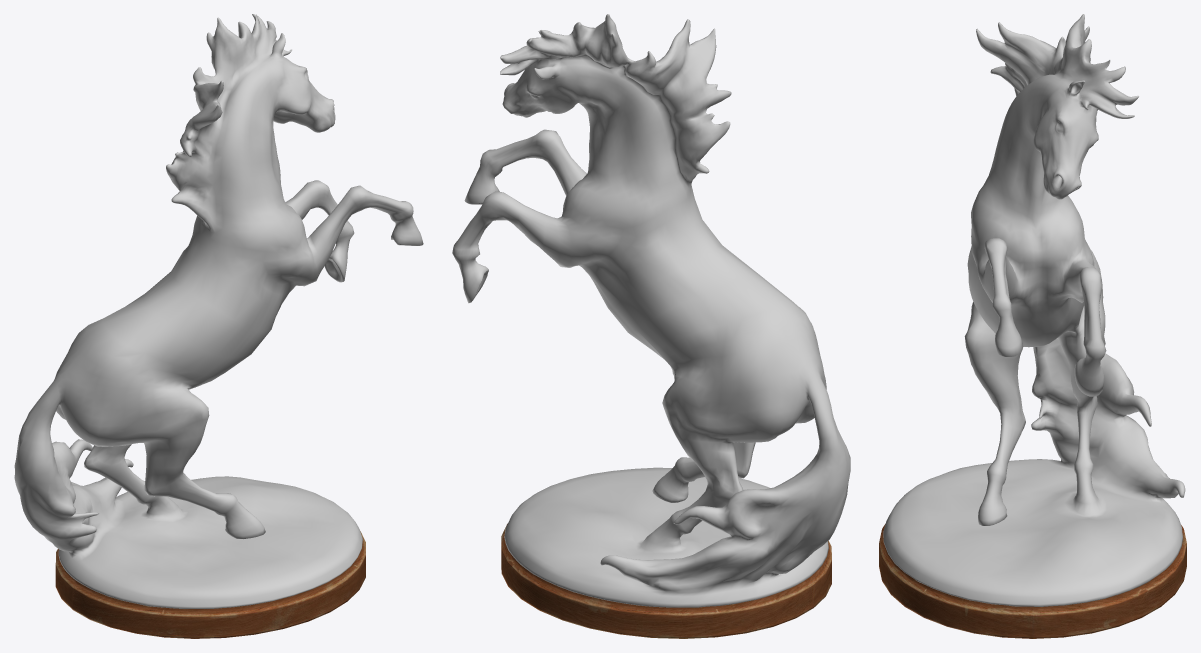
File: horse_statue_01_2k.obj
3 views of the same model, side by side, from view 1: azimuth 30°, elevation 25°; view 2: azimuth 150°, elevation 25°; view 3: azimuth 270°, elevation 25° (orthographic). The views are drawn at different scales.
Visible parts, largest first — view 1: horse_statue_01; view 2: horse_statue_01; view 3: horse_statue_01.
Boxes of the visible parts, x1,y1,x2,y2 form: horse_statue_01: (14, 14, 423, 638); horse_statue_01: (452, 14, 850, 638); horse_statue_01: (879, 14, 1186, 638).
Size of the model in its own units: 0.1638 by 0.22 by 0.1078.
Materials: 2 (1 with a texture image).
